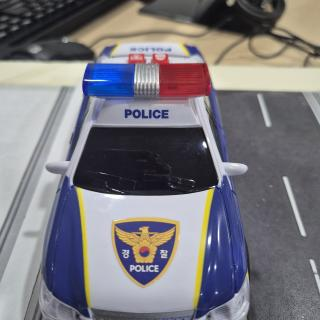Police_car: (39, 42, 250, 320)
